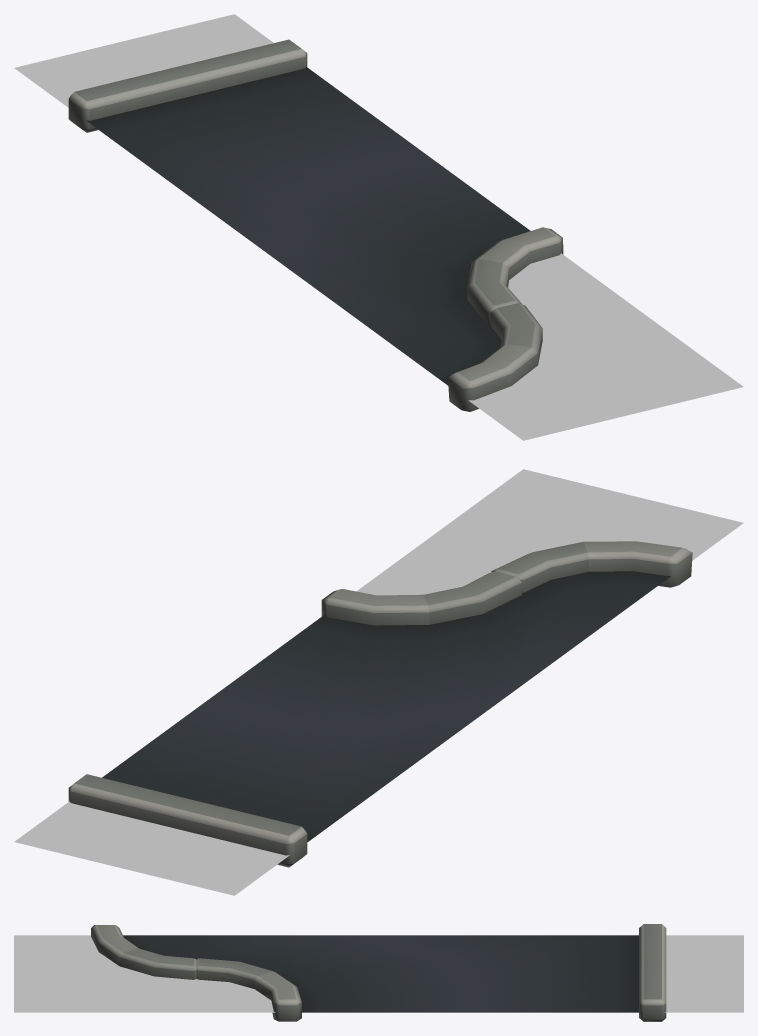
File: road_to_lane_right.fbx
3 renders of one model, top to bottom at view 1: azimuth 30°, elevation 25°; view 2: azimuth 150°, elevation 25°; view 3: azimuth 270°, elevation 25°, orthographic. The views are drawn at different scales.
Visible parts, largest first — view 1: road_to_lane_right, road_to_lane_right_sidewalk; view 2: road_to_lane_right, road_to_lane_right_sidewalk; view 3: road_to_lane_right, road_to_lane_right_sidewalk.
Part boxes in pixels (left/top/right/bottom): road_to_lane_right: left=68, top=39, right=563, bottom=411; road_to_lane_right_sidewalk: left=14, top=14, right=743, bottom=440; road_to_lane_right: left=68, top=541, right=692, bottom=867; road_to_lane_right_sidewalk: left=14, top=469, right=743, bottom=895; road_to_lane_right: left=91, top=924, right=666, bottom=1021; road_to_lane_right_sidewalk: left=14, top=935, right=743, bottom=1012.
Bounding box in the file's own units: 417 × 55 × 1600.
